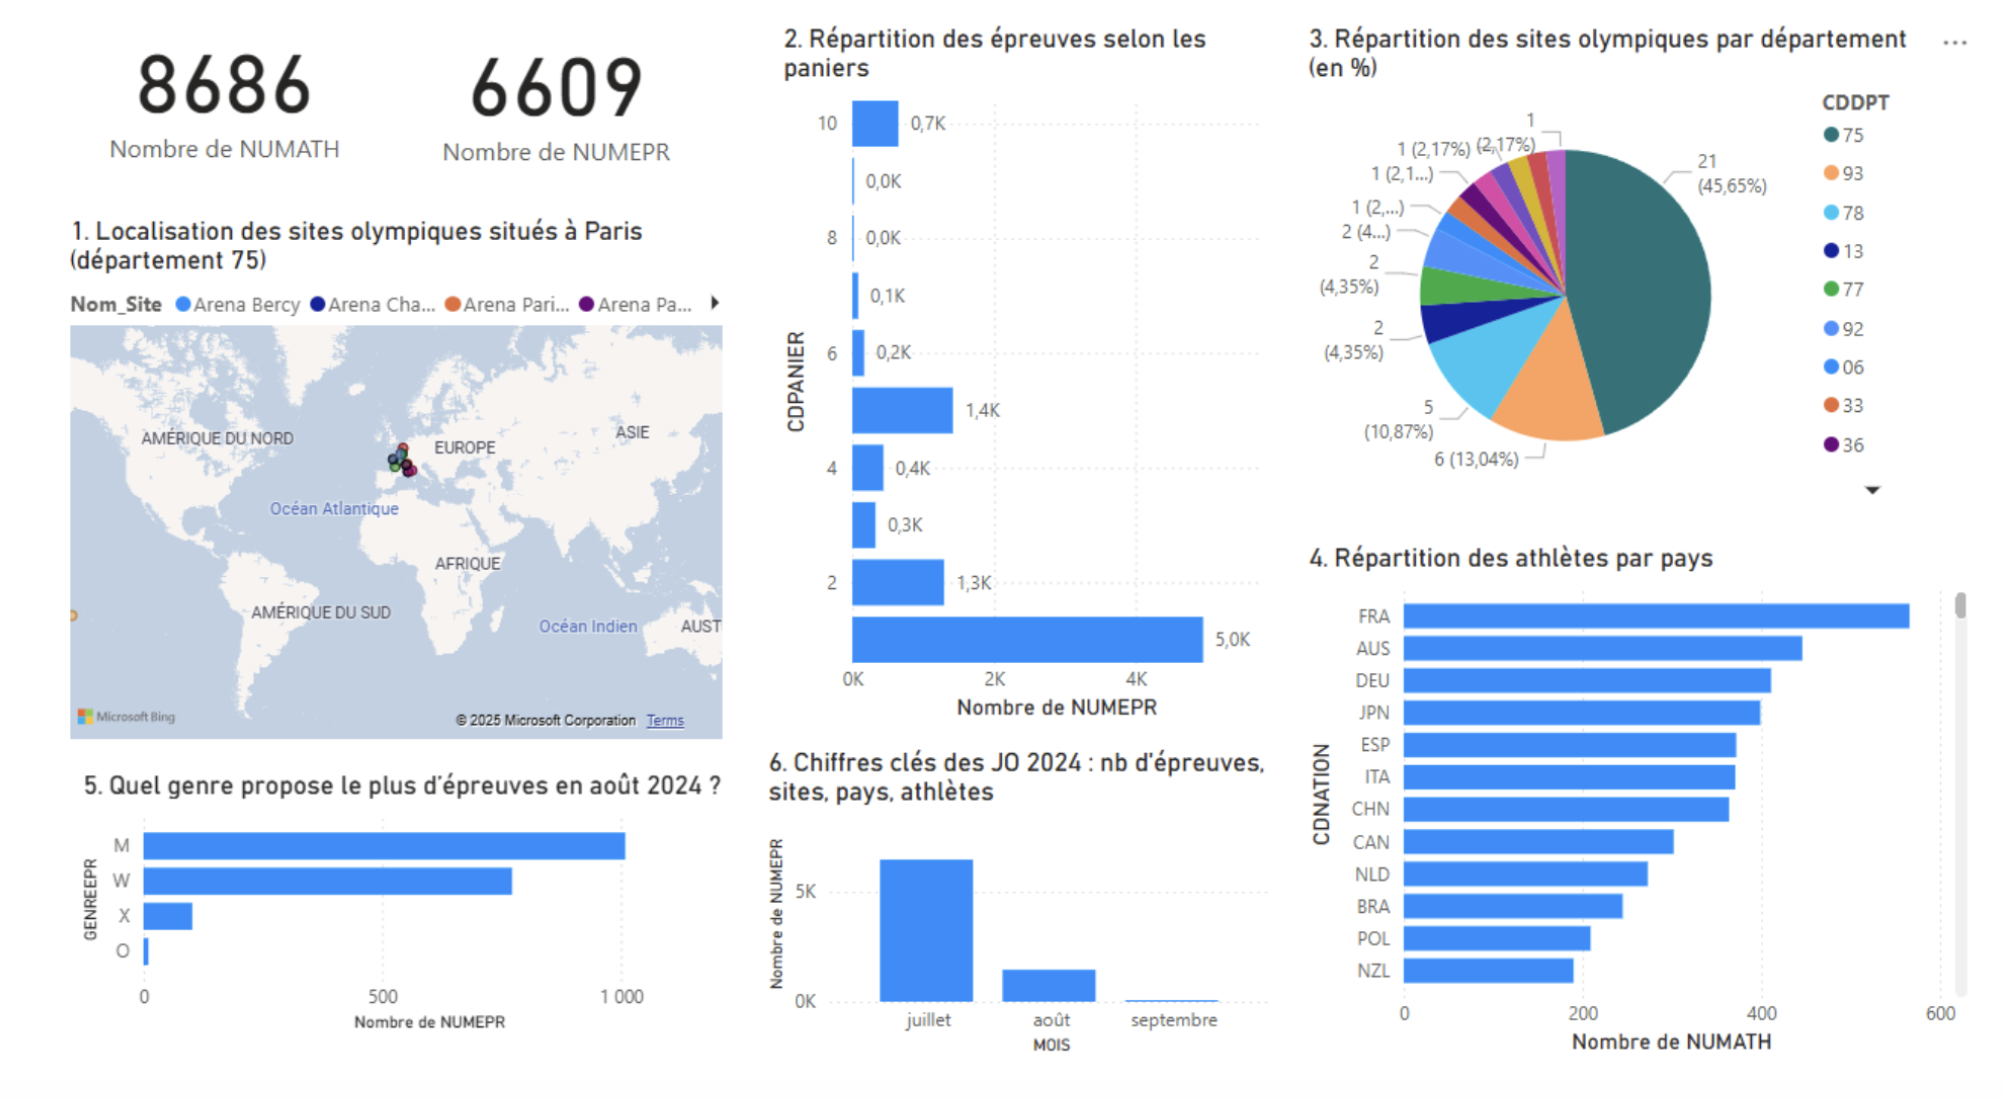

What the dashboard file says about the page in this screenshot:
{"tool":"powerbi","page":{"name":"Page 1","canvas":[1280,720],"ordinal":0},"visuals":[{"type":"card","fields":{"Values":["Count(ATHLETE.NUMATH)"]},"box":[27.5,0,212.5,166.2],"z":0},{"type":"card","fields":{"Values":["Count(EPREUVE.NUMEPR)"]},"box":[246.2,5,210,161.2],"z":1},{"type":"map","title":"1. Localisation des sites olympiques situés à Paris (département 75)","fields":{"Y":["Fusionner1.latitude.1"],"X":["Fusionner1.longitude.1"],"Series":["Fusionner1.Nom_Site"]},"box":[27.5,166.2,437.5,347.5],"z":2},{"type":"clusteredBarChart","title":"2. Répartition des épreuves selon les paniers","fields":{"Category":["EPREUVE.CDPANIER"],"Y":["Count(EPREUVE.NUMEPR)"]},"box":[495,40,330,461.2],"z":3},{"type":"actionButton","box":[1180,0,100,40],"z":4},{"type":"pieChart","title":"3. Répartition des sites olympiques par département (en %)","fields":{"Category":["SITE.CDDPT"],"Y":["Count(SITE.CDSITE)"]},"box":[838.8,40,410,318.8],"z":5},{"type":"barChart","title":"4. Répartition des athlètes par pays","fields":{"Category":["ATHLETE.CDNATION"],"Y":["Count(ATHLETE.NUMATH)"]},"box":[838.8,380,441.2,340],"z":6},{"type":"barChart","title":"5. Quel genre propose le plus d’épreuves en août 2024 ?","fields":{"Category":["EPREUVE.GENREEPR"],"Y":["Count(EPREUVE.NUMEPR)"]},"box":[36.2,528.8,440,176.2],"z":7},{"type":"clusteredColumnChart","title":"6. Chiffres clés des JO 2024 : nb d''épreuves, sites, pays, athlètes","fields":{"Category":["EPREUVE.MOIS"],"Y":["Count(EPREUVE.NUMEPR)"]},"box":[485,513.8,340,206.2],"z":8}]}

Visuals, with their boxes in screenshot pixels (x1, y1, x2, y2), scaled from the page's 1280x720 canvas onto the 2004x1100 screenshot:
card - Count(ATHLETE.NUMATH): box(43, 0, 376, 254)
card - Count(EPREUVE.NUMEPR): box(385, 8, 714, 254)
"1. Localisation des sites olympiques situés à Paris (département 75)" map: box(43, 254, 728, 785)
"2. Répartition des épreuves selon les paniers" clusteredBarChart: box(775, 61, 1292, 766)
actionButton: box(1847, 0, 2003, 61)
"3. Répartition des sites olympiques par département (en %)" pieChart: box(1313, 61, 1955, 548)
"4. Répartition des athlètes par pays" barChart: box(1313, 581, 2003, 1099)
"5. Quel genre propose le plus d’épreuves en août 2024 ?" barChart: box(57, 808, 746, 1077)
"6. Chiffres clés des JO 2024 : nb d''épreuves, sites, pays, athlètes" clusteredColumnChart: box(759, 785, 1292, 1099)
